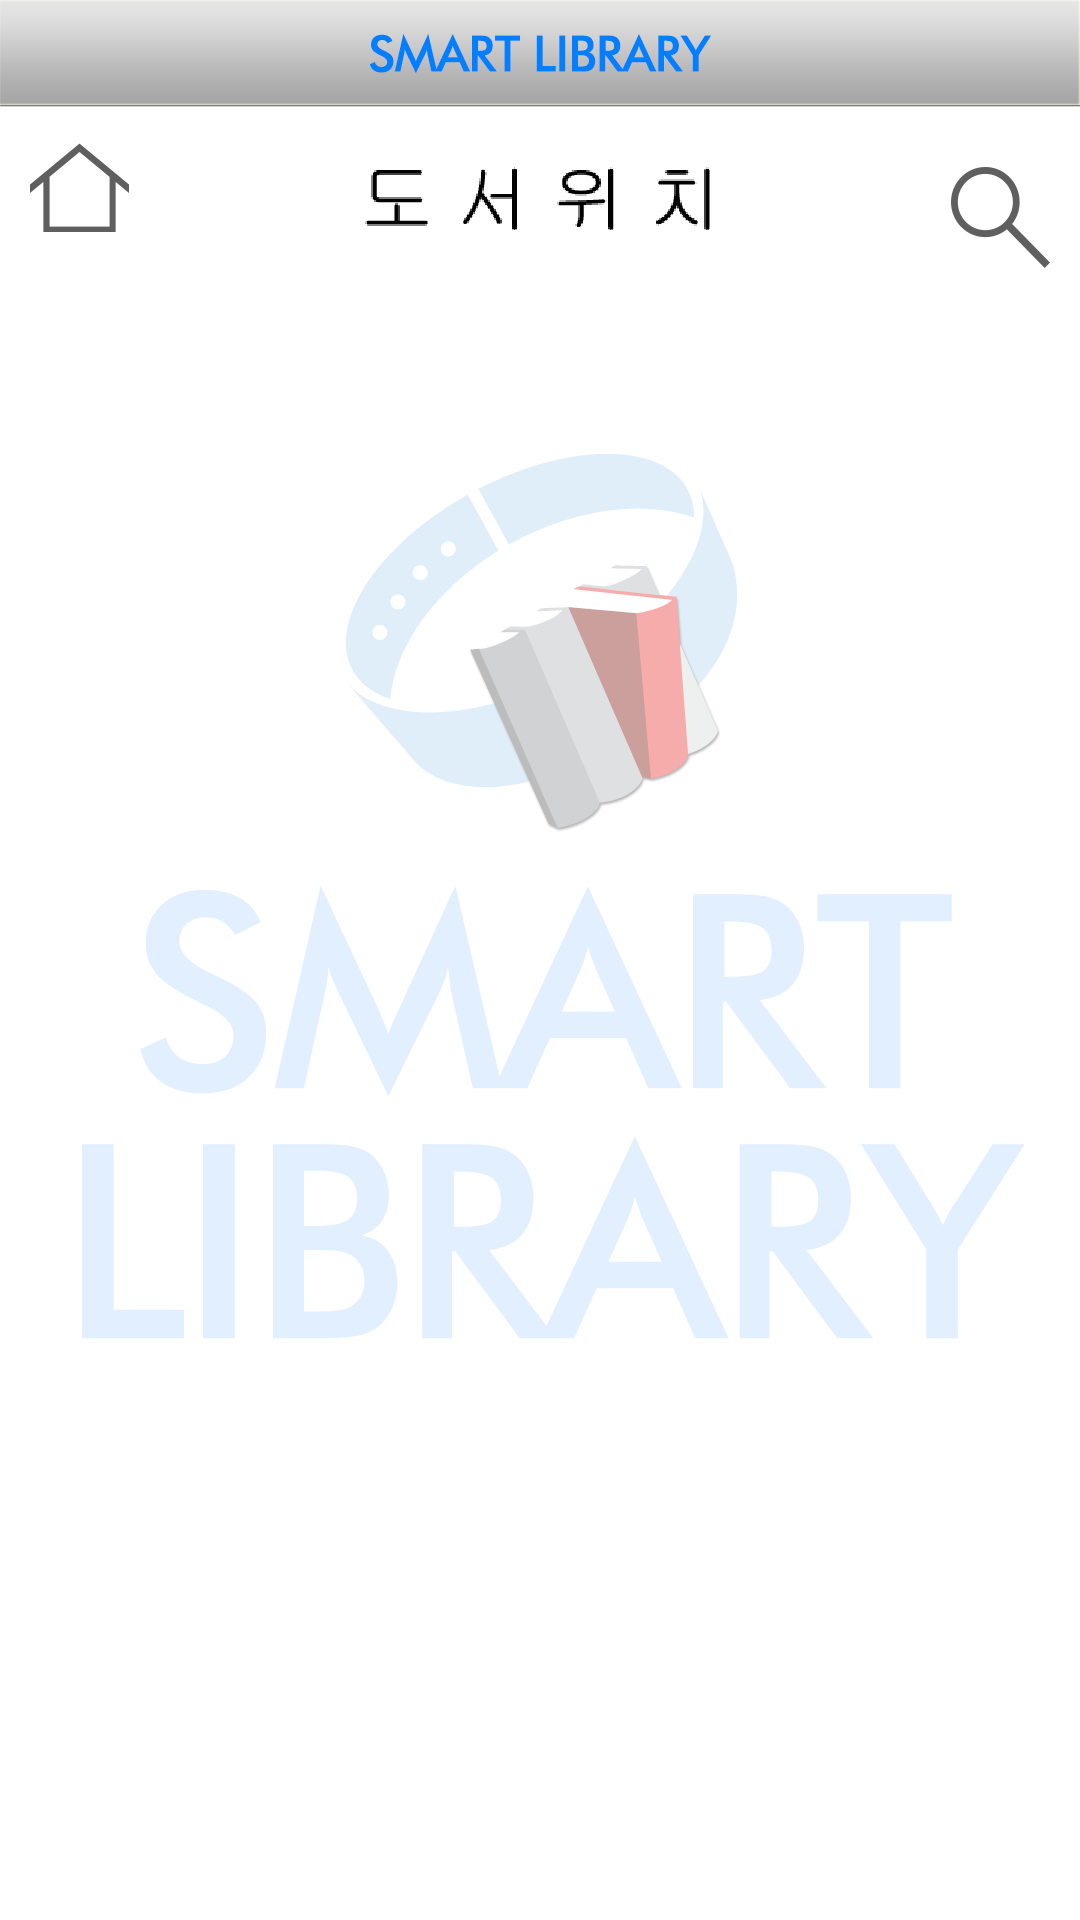

Named icons in this screenshot (1080x1920) and their bounding boxes, (x1, y1, x2, y2):
mainglass: (951, 167, 1050, 268)
mainhome: (30, 143, 129, 232)
